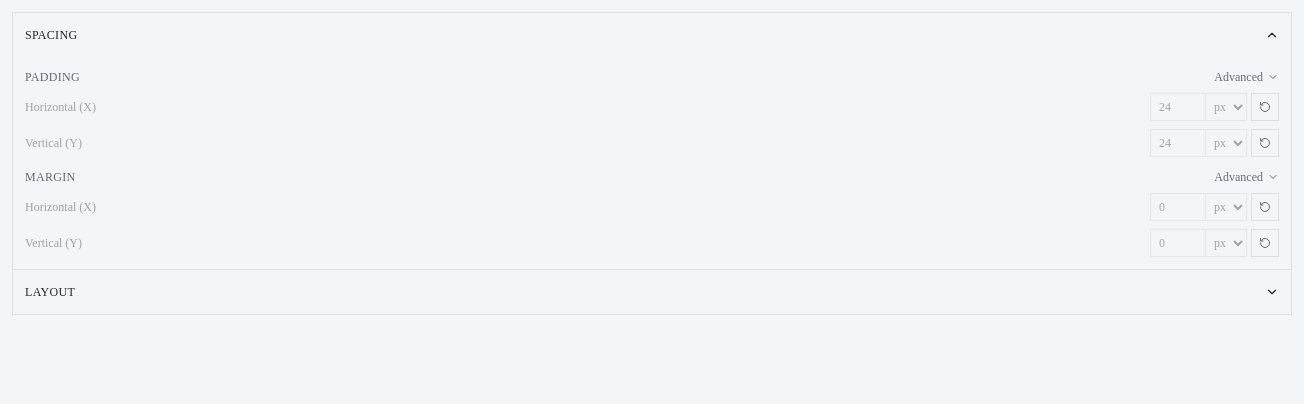
margin and leaf-width layout controls › uses paired horizontal/vertical margin controls until Advanced is opened
expect the number of dropdowns named "Horizontal (X) unit" is 2: met, box [1206, 93, 1247, 121]; [1206, 193, 1247, 221]
Type "12" into the 1st number field with placeholder "0" at (1178, 207), box [1150, 193, 1206, 221]
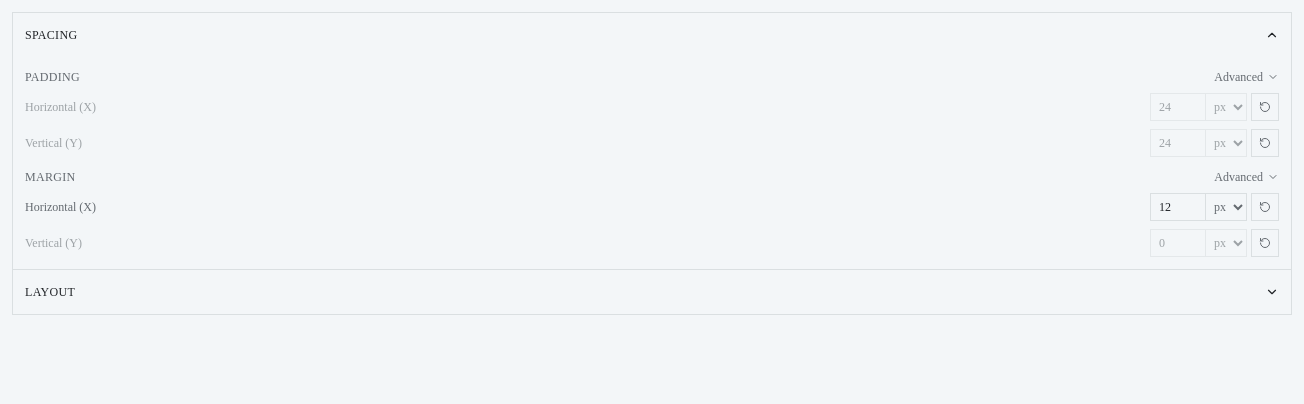
Click the button with aria-label "Margin advanced options" at (1247, 177), box [1214, 169, 1279, 185]
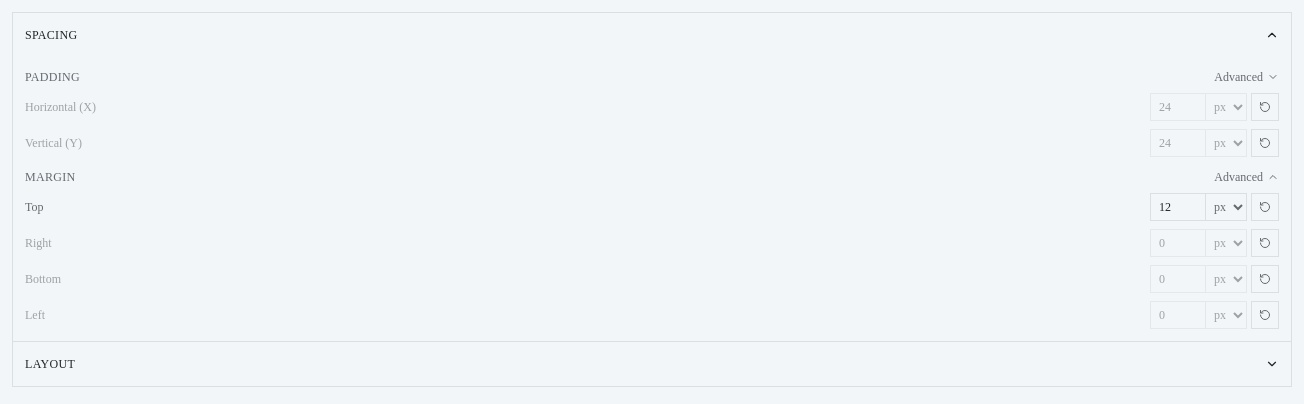
expect the number of dropdowns named "Horizontal (X) unit" is 1: met, box [1206, 93, 1247, 121]
expect the number of dropdowns named "Top unit" is 1: met, box [1206, 193, 1247, 221]
